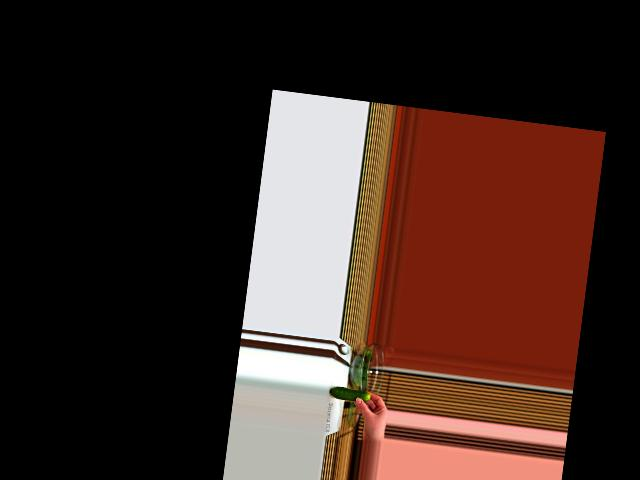cucumber: (329, 385, 371, 403)
